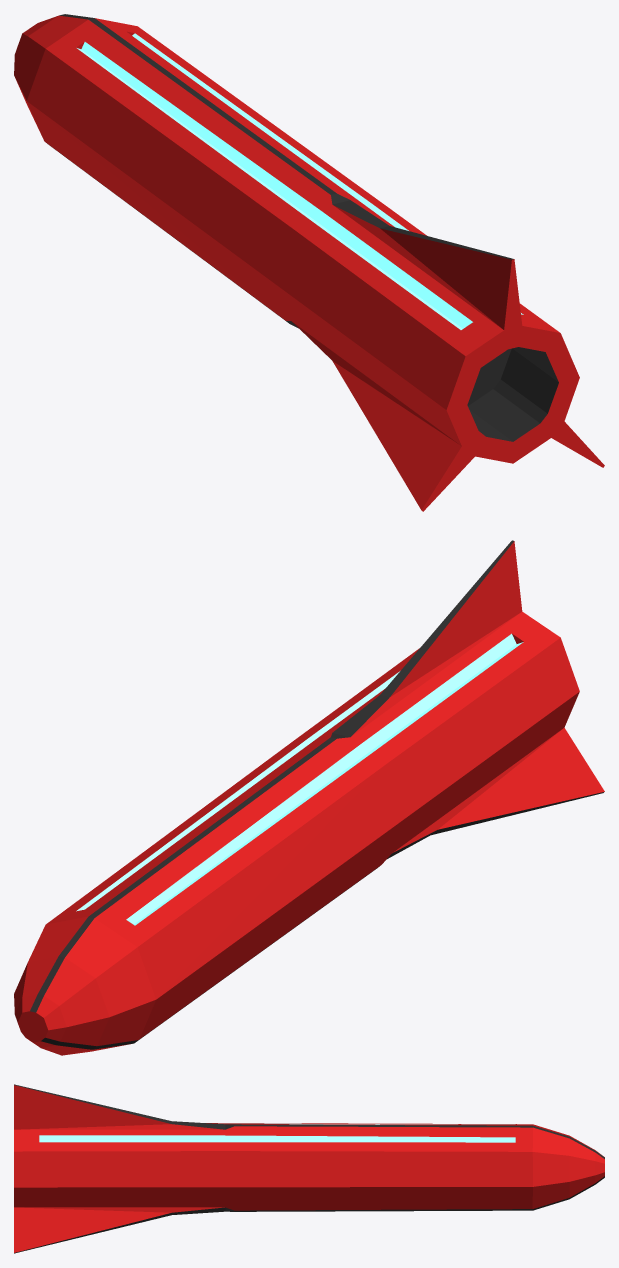
The model's file is Missile.fbx.
The picture shows the model from 3 angles, top to bottom: view 1: azimuth 30°, elevation 25°; view 2: azimuth 150°, elevation 25°; view 3: azimuth 270°, elevation 25°; orthographic projection. The views are drawn at different scales.
Visible parts, largest first — view 1: Missile; view 2: Missile; view 3: Missile.
Part boxes in pixels (x1,y1,x2,y2): Missile: (14,14,604,511); Missile: (14,540,604,1055); Missile: (14,1084,604,1253).
Bounding box in the file's own units: 27.98 × 33.58 × 127.
